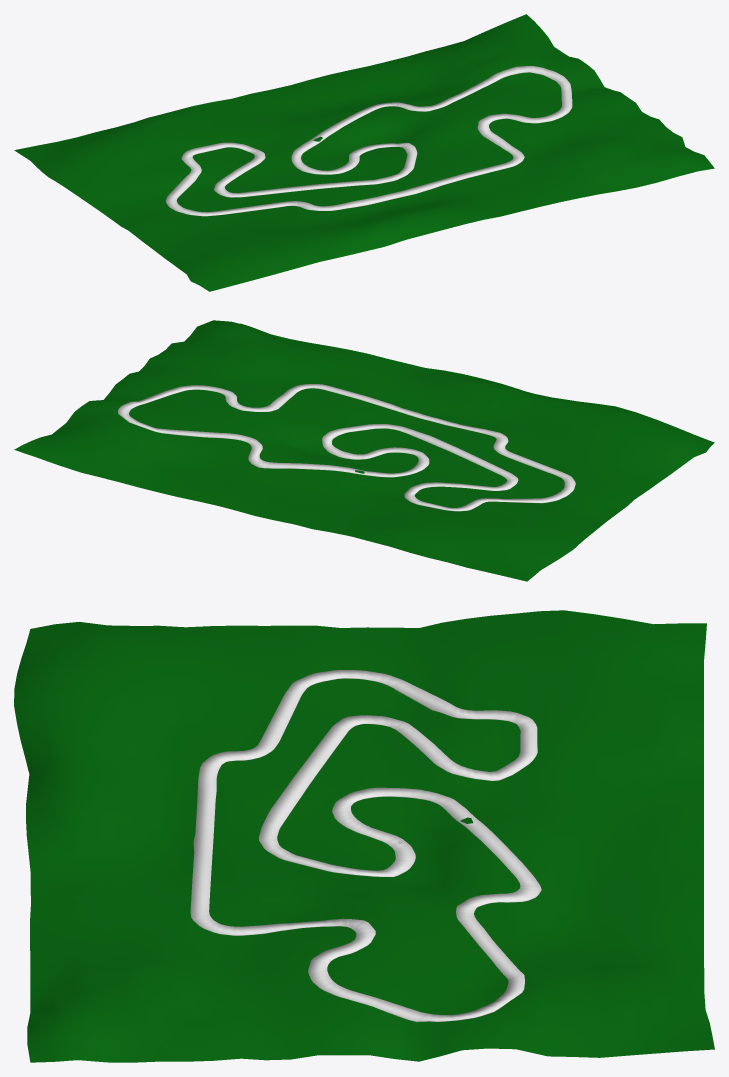
File: pistaHELPMEEEE.fbx
3 renders of one model, top to bottom at view 1: azimuth 30°, elevation 25°; view 2: azimuth 150°, elevation 25°; view 3: azimuth 270°, elevation 25°, orthographic. The views are drawn at different scales.
Parts seen in each view (by area): view 1: Plane, Pista; view 2: Plane, Pista; view 3: Plane, Pista.
Part boxes in pixels (x1,y1,x2,y2): Plane: (14,14,714,291); Pista: (165,66,572,216); Plane: (14,320,714,581); Pista: (118,384,575,511); Plane: (14,610,714,1062); Pista: (190,670,541,1022).
Size of the model in its own units: 48874 by 1415 by 32379.
